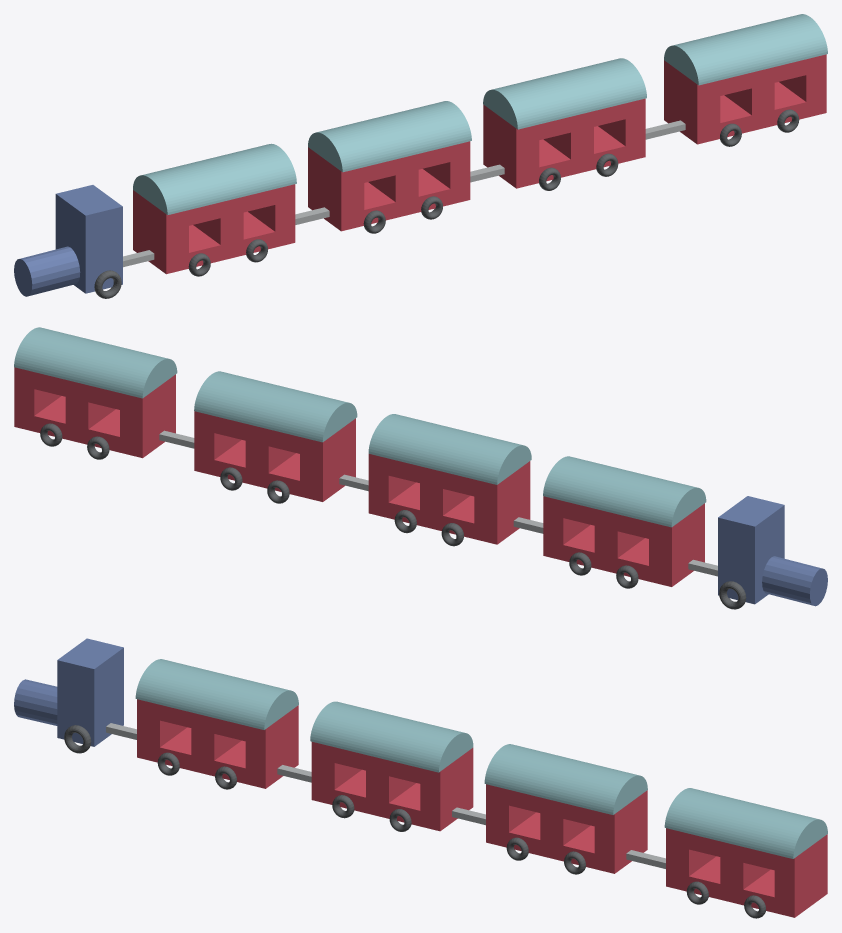
File: Grand Albar-Borwo.glb
3 renders of one model, top to bottom at view 1: azimuth 30°, elevation 25°; view 2: azimuth 150°, elevation 25°; view 3: azimuth 330°, elevation 25°, orthographic.
Parts seen in each view (by area): view 1: Mesh_Mesh_head_geo.001_lambert2SG.001; view 2: Mesh_Mesh_head_geo.001_lambert2SG.001; view 3: Mesh_Mesh_head_geo.001_lambert2SG.001.
Boxes of the visible parts, <box> form: Mesh_Mesh_head_geo.001_lambert2SG.001: <box>14,14,827,298</box>; Mesh_Mesh_head_geo.001_lambert2SG.001: <box>14,327,827,609</box>; Mesh_Mesh_head_geo.001_lambert2SG.001: <box>14,638,827,918</box>.
Bounding box in the file's own units: 275 × 31 × 25.27.
